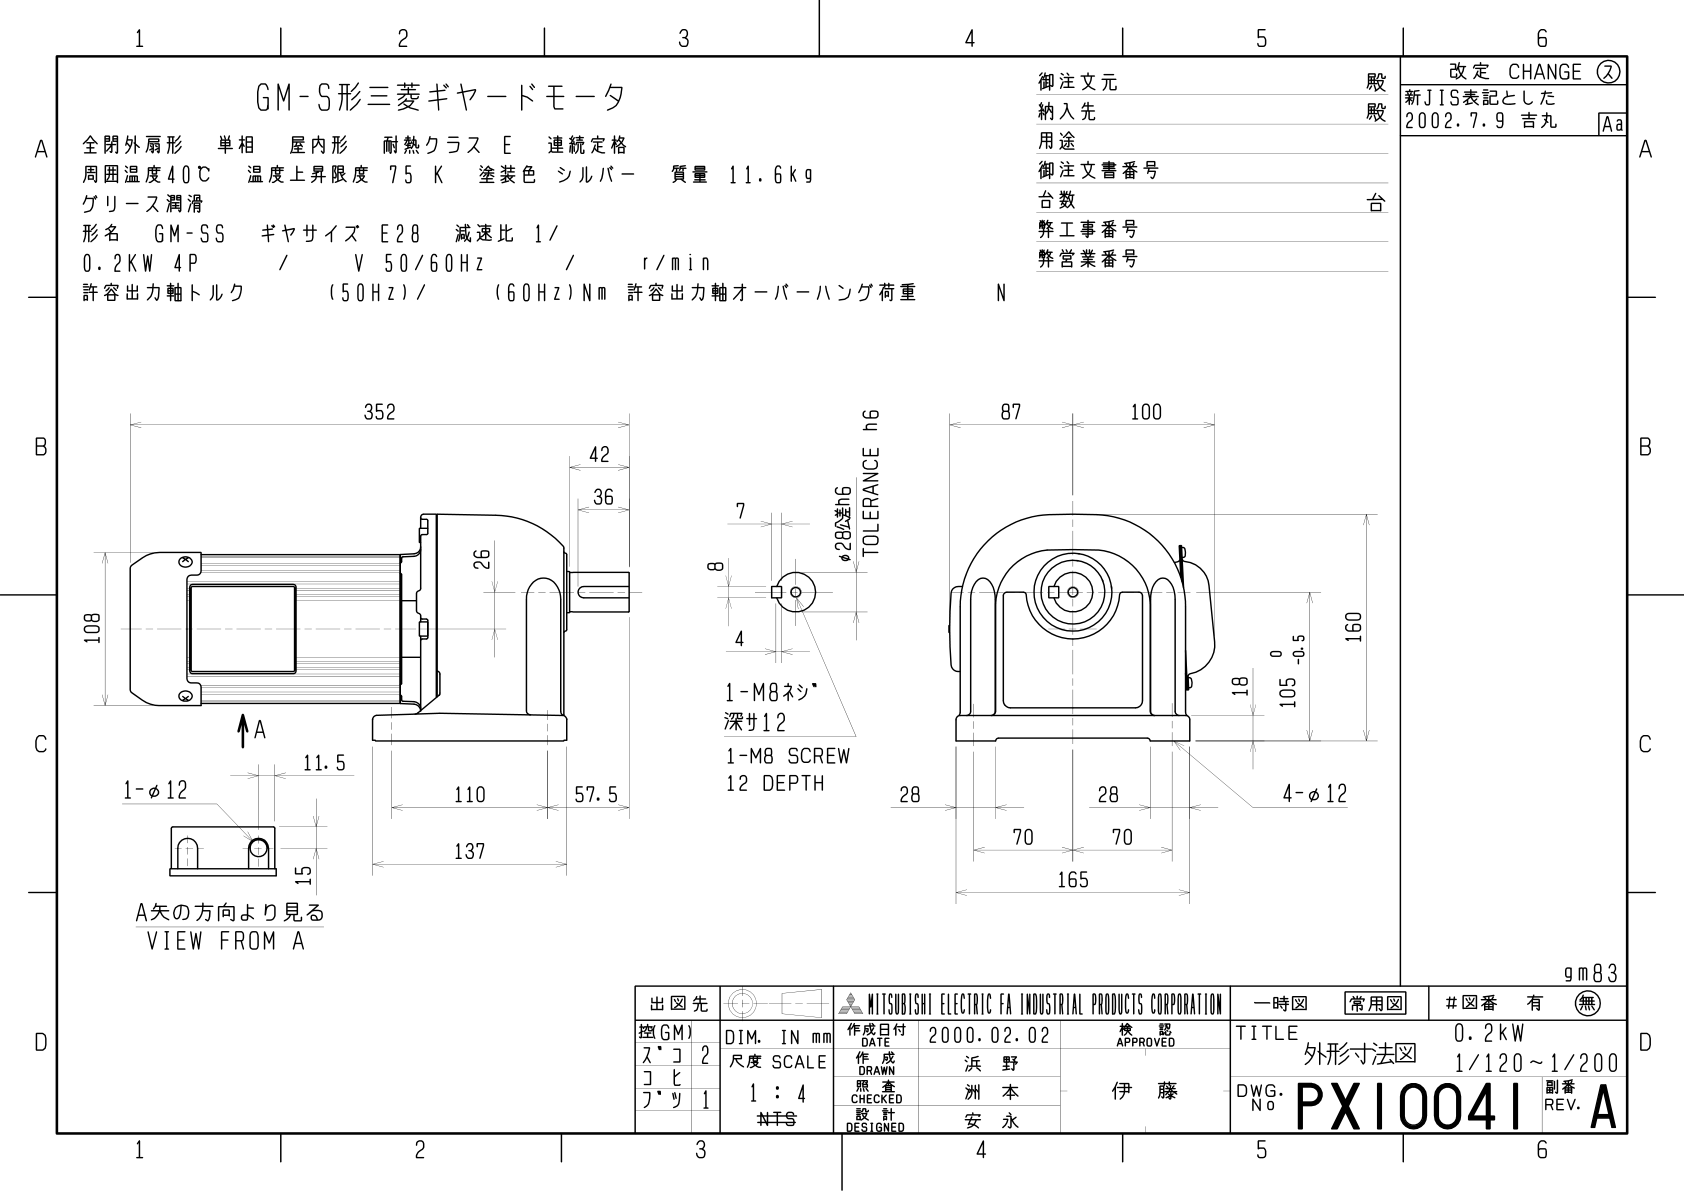GM_S_屋内＿単相_脚: (17, 5, 1684, 1191)
